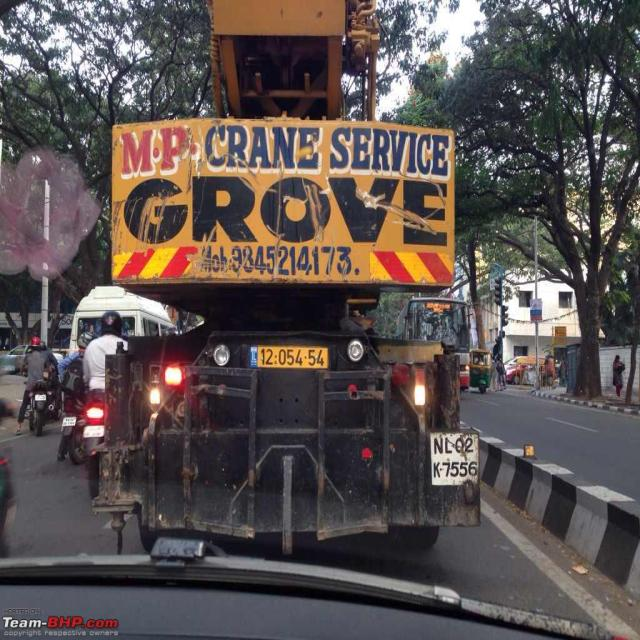plate: (430, 432, 478, 483), (257, 349, 329, 371)
